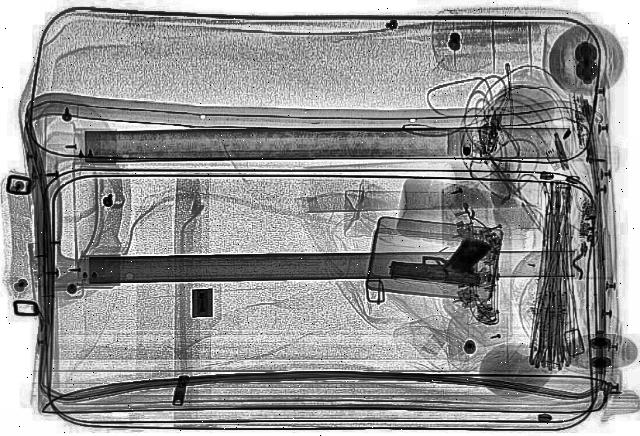Gun: (388, 231, 496, 287)
